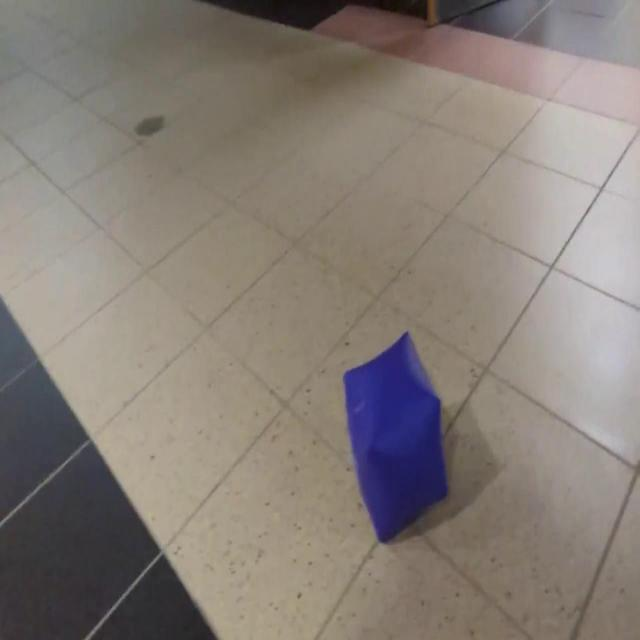frc_cube: (341, 330, 450, 554)
